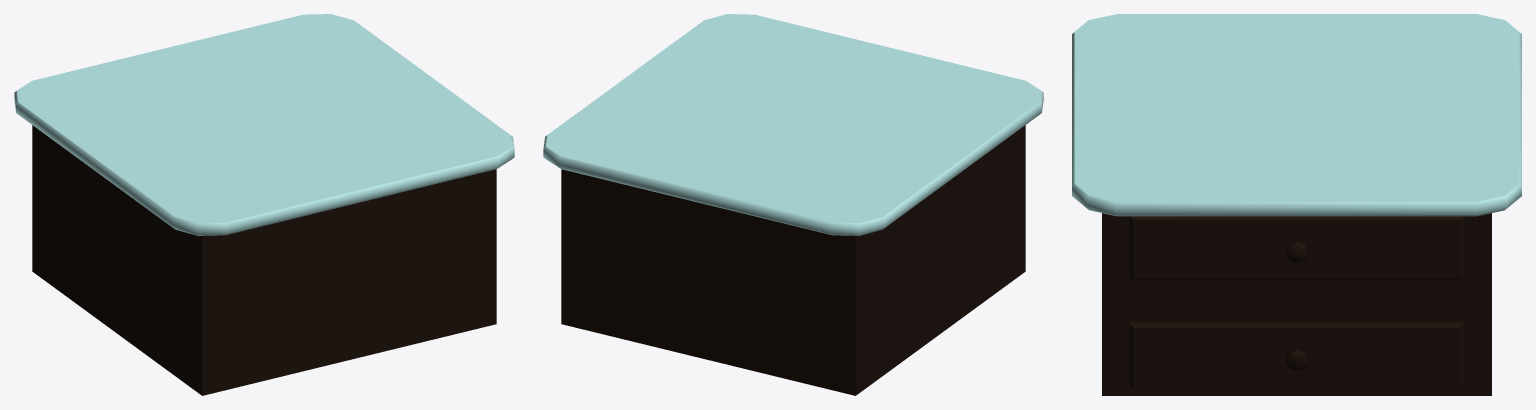
File: Counter 1.obj
The picture shows the model from 3 angles, left to right: view 1: azimuth 30°, elevation 25°; view 2: azimuth 150°, elevation 25°; view 3: azimuth 270°, elevation 25°; orthographic projection. The views are drawn at different scales.
Parts seen in each view (by area): view 1: Cube, Cube.001; view 2: Cube, Cube.001; view 3: Cube.001, Cube, Cube.003, Cube.002.
Part boxes in pixels (left/top/right/bottom): Cube: left=32, top=125, right=496, bottom=395; Cube.001: left=14, top=14, right=514, bottom=235; Cube: left=561, top=125, right=1025, bottom=395; Cube.001: left=543, top=14, right=1043, bottom=235; Cube.001: left=1072, top=14, right=1521, bottom=216; Cube: left=1102, top=213, right=1491, bottom=395; Cube.003: left=1129, top=322, right=1464, bottom=387; Cube.002: left=1129, top=216, right=1464, bottom=279.
Bounding box in the file's own units: 2.31 × 1.16 × 2.31.
